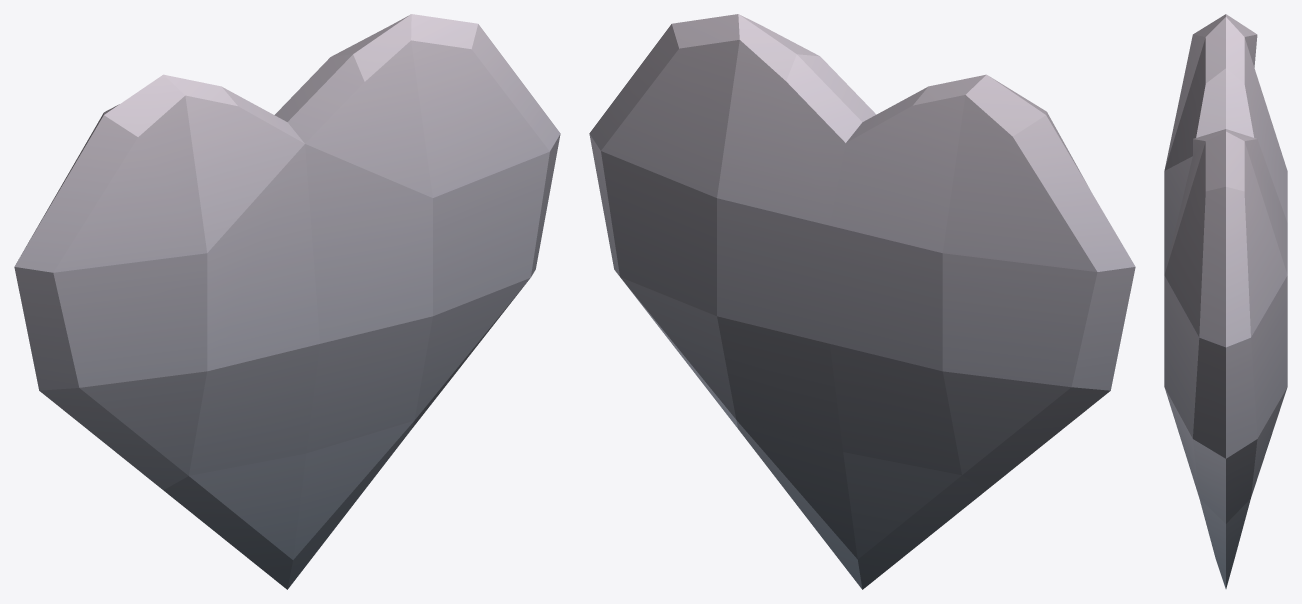
Rendered from HeartGem.fbx.
The picture shows the model from 3 angles, left to right: view 1: azimuth 30°, elevation 25°; view 2: azimuth 150°, elevation 25°; view 3: azimuth 270°, elevation 25°; orthographic projection. The views are drawn at different scales.
Parts seen in each view (by area): view 1: HeartGem; view 2: HeartGem; view 3: HeartGem.
Boxes of the visible parts, x1=… form: HeartGem: x1=14, y1=14, x2=560, y2=589; HeartGem: x1=589, y1=14, x2=1135, y2=589; HeartGem: x1=1164, y1=14, x2=1287, y2=588.
Size of the model in its own units: 263 by 251 by 54.27.
